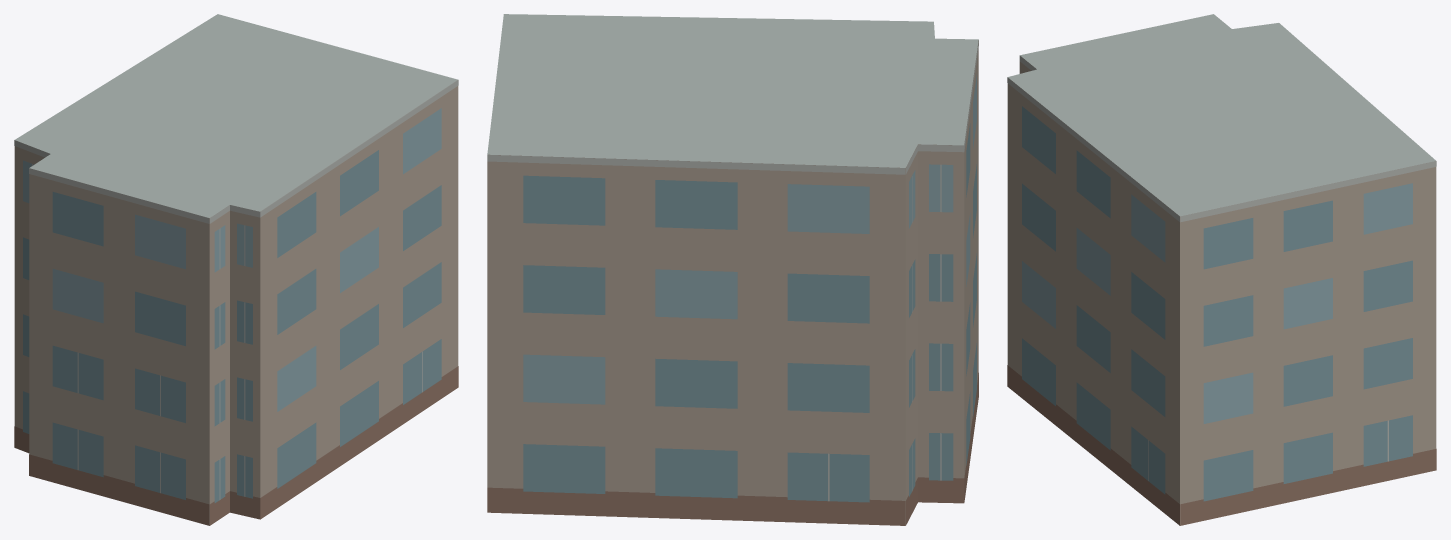
The model's file is survey-upis-33047421.glb.
3 views of the same model, side by side, from view 1: azimuth 30°, elevation 25°; view 2: azimuth 150°, elevation 25°; view 3: azimuth 270°, elevation 25° (orthographic). The views are drawn at different scales.
Visible parts, largest first — view 1: survey-upis-33047421.tmp; view 2: survey-upis-33047421.tmp; view 3: survey-upis-33047421.tmp.
Part boxes in pixels (box(x1,y1,x2,y2)): survey-upis-33047421.tmp: box(14, 14, 458, 525); survey-upis-33047421.tmp: box(487, 14, 978, 525); survey-upis-33047421.tmp: box(1007, 14, 1436, 525).
Size of the model in its own units: 17.97 by 12.8 by 16.09.
